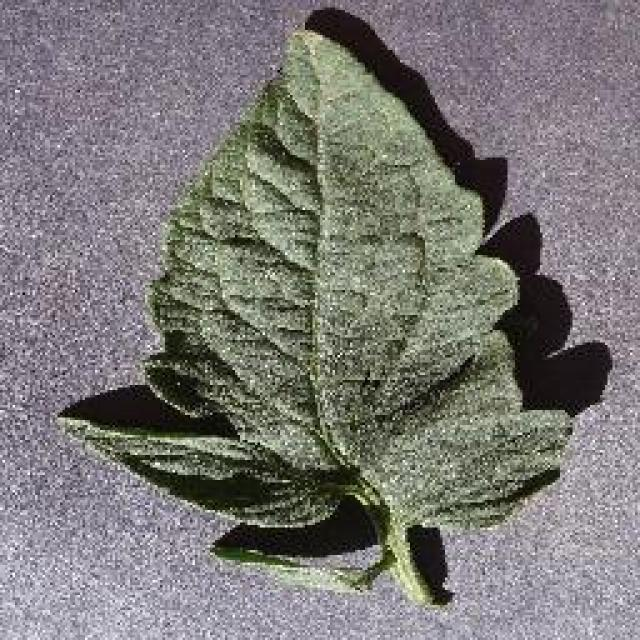Healthy: (45, 15, 587, 623)
